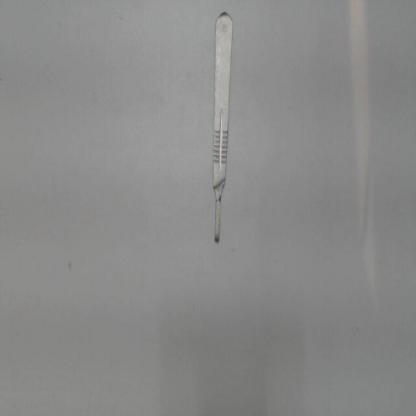No.4 BP Handle: (202, 5, 236, 252)
